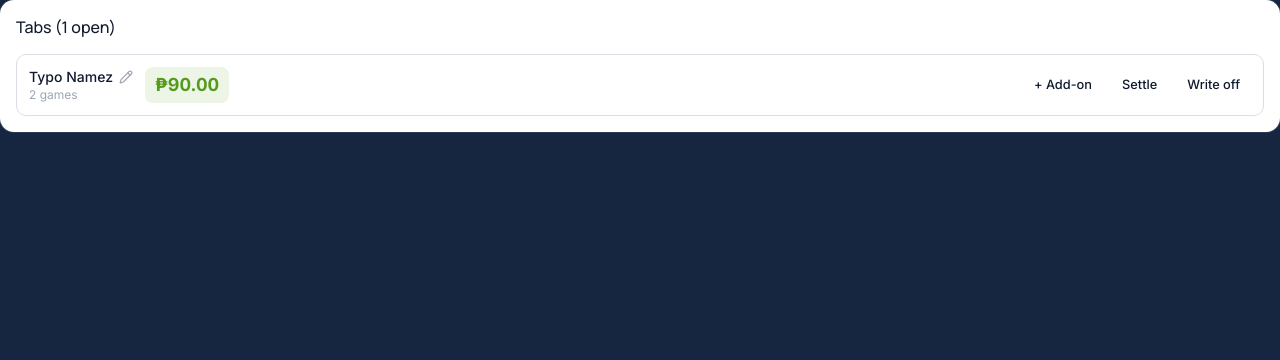
Test case: TabsPanel — itemised charges when settling › lists every game with its court and time, each add-on, and the total
The width and height of the screenshot is (1280, 360).
Expected: the text "OP · Court 1 · 7:20 PM–7:40 PM" is not shown
Click the button "Settle" at (1140, 85), box [1111,71,1168,99]
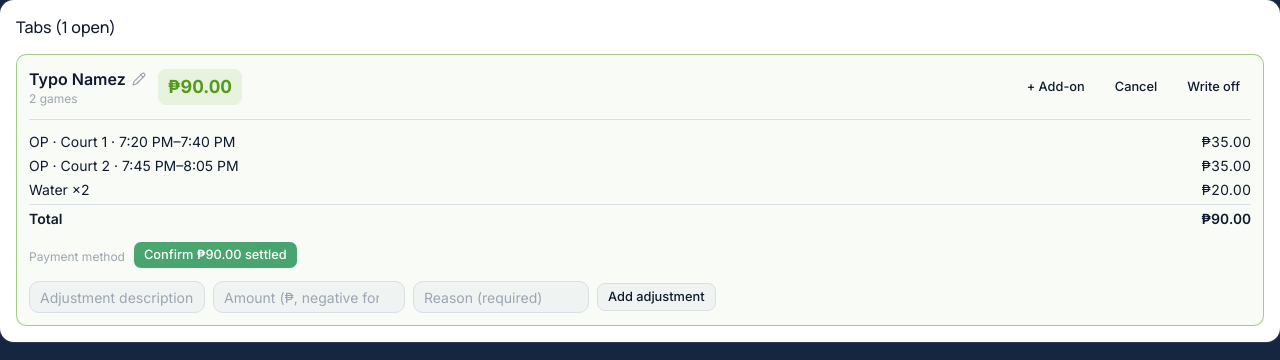
Expected: the list named "Typo Namez's charges" shows "OP · Court 1 · 7:20 PM–7:40 PM", [29,133,235,150]
Expected: the list named "Typo Namez's charges" shows "OP · Court 2 · 7:45 PM–8:05 PM", [29,157,239,174]
Expected: the list named "Typo Namez's charges" shows "Water ×2", [29,132,1251,229]
